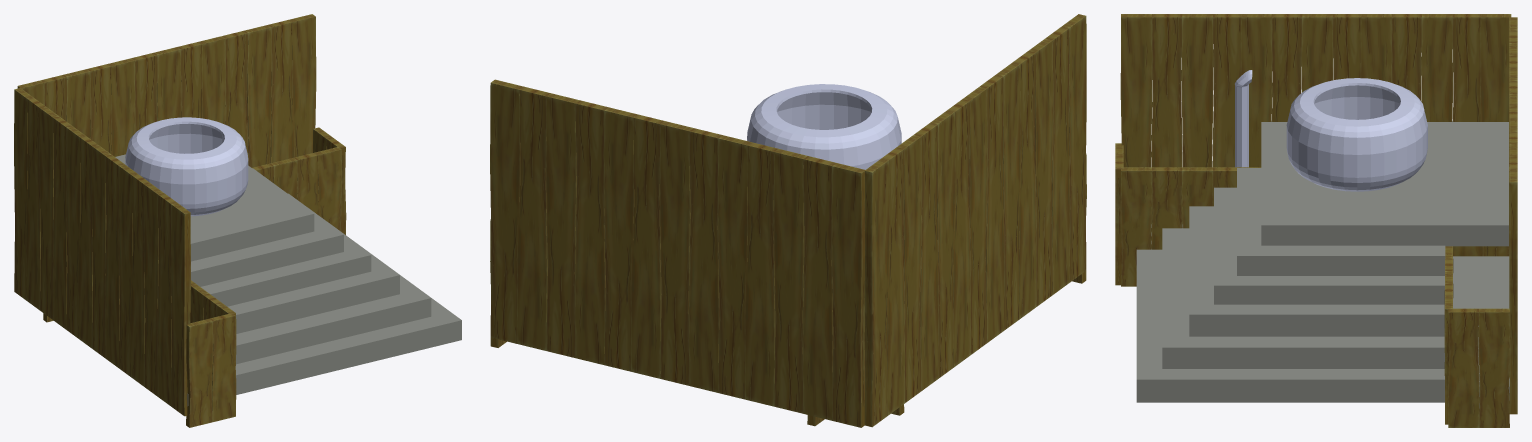
File: MidasMachine.fbx
3 views of the same model, side by side, from view 1: azimuth 30°, elevation 25°; view 2: azimuth 150°, elevation 25°; view 3: azimuth 270°, elevation 25° (orthographic). The views are drawn at different scales.
Parts seen in each view (by area): view 1: Bottle, Cube.003, Cube.004, Cube.002, Cube.005, Cube.001, Cube, Plank.003, Plank.023, Plank.025, Plank.024, Plank.011 (+27 smaller); view 2: Bottle, Plank.013, Plank.023, Plank.019, Plank.015, Plank.022, Plank.018, Plank.014, Plank.016, Plank.020, Plank.024, Plank.025 (+15 smaller); view 3: Cube.002, Cube.003, Bottle, Cube.004, Cube.005, Cube, Cube.001, Plank.011, Plank.003, Plank.012, Plank.010, Plank.053 (+19 smaller).
Boxes of the visible parts, left/top/right/bottom form: Bottle: left=125, top=117, right=248, bottom=216; Cube.003: left=235, top=224, right=461, bottom=394; Cube.004: left=236, top=208, right=431, bottom=364; Cube.002: left=115, top=154, right=314, bottom=261; Cube.005: left=228, top=193, right=399, bottom=333; Cube.001: left=191, top=168, right=343, bottom=286; Cube: left=201, top=235, right=371, bottom=306; Plank.003: left=170, top=202, right=190, bottom=416; Plank.023: left=245, top=25, right=271, bottom=167; Plank.025: left=291, top=14, right=316, bottom=157; Plank.024: left=268, top=19, right=294, bottom=163; Plank.011: left=144, top=183, right=163, bottom=396; Bottle: left=747, top=84, right=901, bottom=169; Plank.013: left=831, top=163, right=865, bottom=427; Plank.023: left=546, top=93, right=579, bottom=357; Plank.019: left=659, top=121, right=693, bottom=385; Plank.015: left=773, top=149, right=807, bottom=413; Plank.022: left=575, top=100, right=608, bottom=365; Plank.018: left=689, top=128, right=722, bottom=392; Plank.014: left=802, top=156, right=836, bottom=420; Plank.016: left=744, top=142, right=778, bottom=406; Plank.020: left=630, top=114, right=663, bottom=378; Plank.024: left=516, top=86, right=550, bottom=350; Plank.025: left=490, top=79, right=523, bottom=343; Cube.002: left=1261, top=120, right=1508, bottom=246; Cube.003: left=1136, top=249, right=1444, bottom=402; Bottle: left=1286, top=78, right=1427, bottom=191; Cube.004: left=1162, top=228, right=1444, bottom=368; Cube.005: left=1189, top=206, right=1444, bottom=336; Cube: left=1214, top=187, right=1444, bottom=304; Cube.001: left=1237, top=168, right=1445, bottom=275; Plank.011: left=1181, top=14, right=1213, bottom=167; Plank.003: left=1120, top=14, right=1152, bottom=167; Plank.012: left=1151, top=14, right=1182, bottom=223; Plank.010: left=1212, top=14, right=1243, bottom=205; Plank.053: left=1448, top=308, right=1479, bottom=427.
Size of the model in its own units: 10.09 by 6.74 by 10.08.
